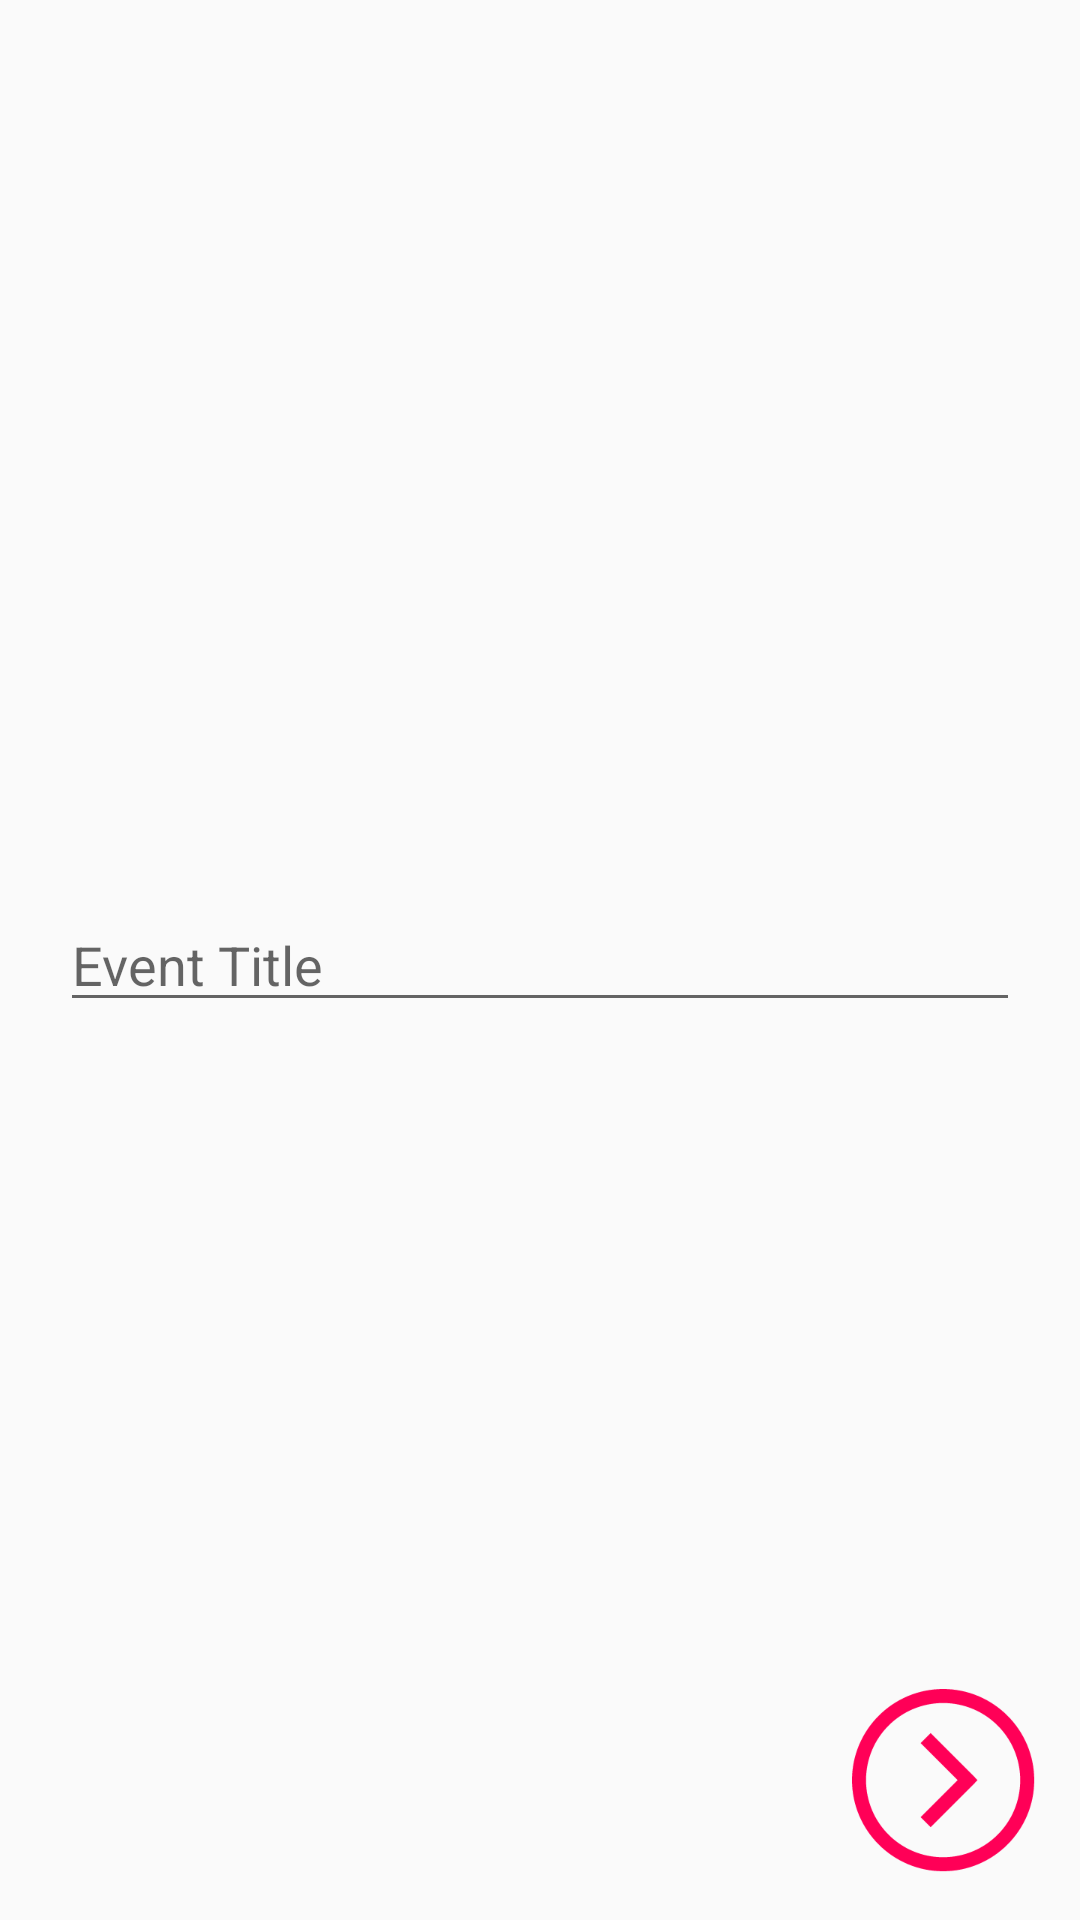

Screen size 1080×1920. Icon name, then its center in pixels as (x,y):
right: (943,1780)
